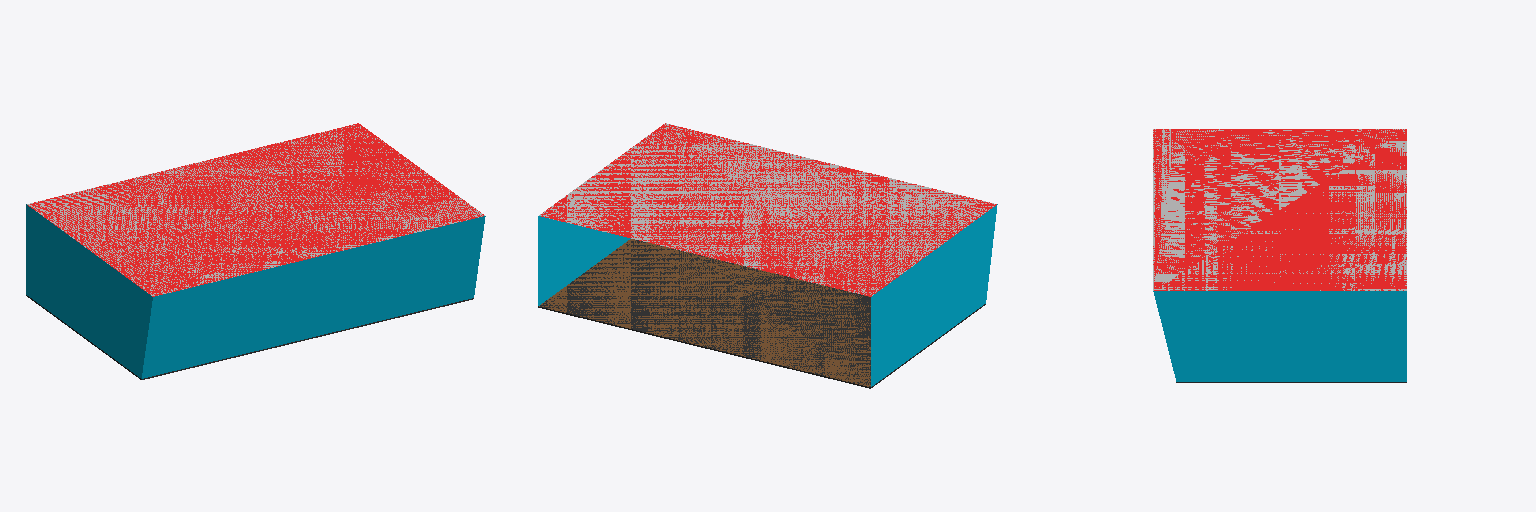
File: vystavna_miestnost.obj
3 renders of one model, left to right at view 1: azimuth 30°, elevation 25°; view 2: azimuth 150°, elevation 25°; view 3: azimuth 270°, elevation 25°, orthographic.
Visible parts, largest first — view 1: Mesh2 Model, Mesh1 podlaha_hl_budova1 Model; view 2: Mesh2 Model, Mesh1 podlaha_hl_budova1 Model; view 3: Mesh2 Model.
Boxes of the visible parts, x1,y1,x2,y2 form: Mesh2 Model: [26, 123, 485, 378]; Mesh1 podlaha_hl_budova1 Model: [26, 295, 473, 379]; Mesh2 Model: [538, 123, 997, 386]; Mesh1 podlaha_hl_budova1 Model: [538, 239, 985, 388]; Mesh2 Model: [1153, 129, 1406, 381].
Size of the model in its own units: 25 by 6.6 by 16.5.